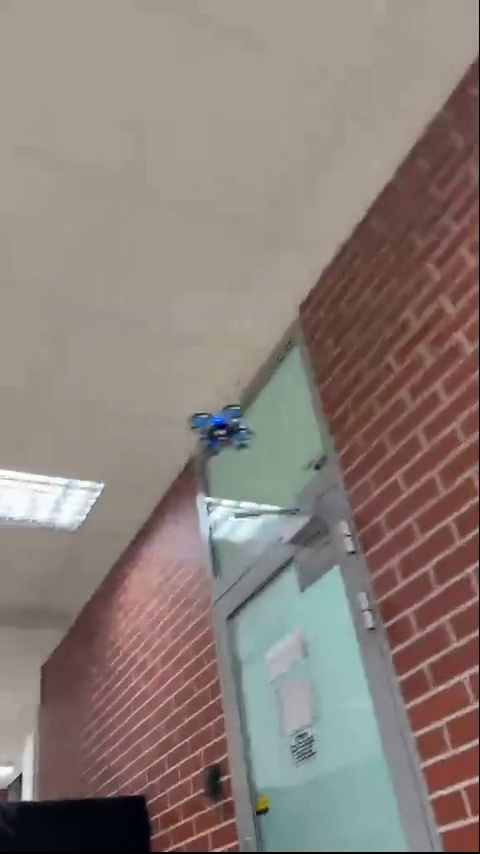drone: (189, 406, 248, 451)
